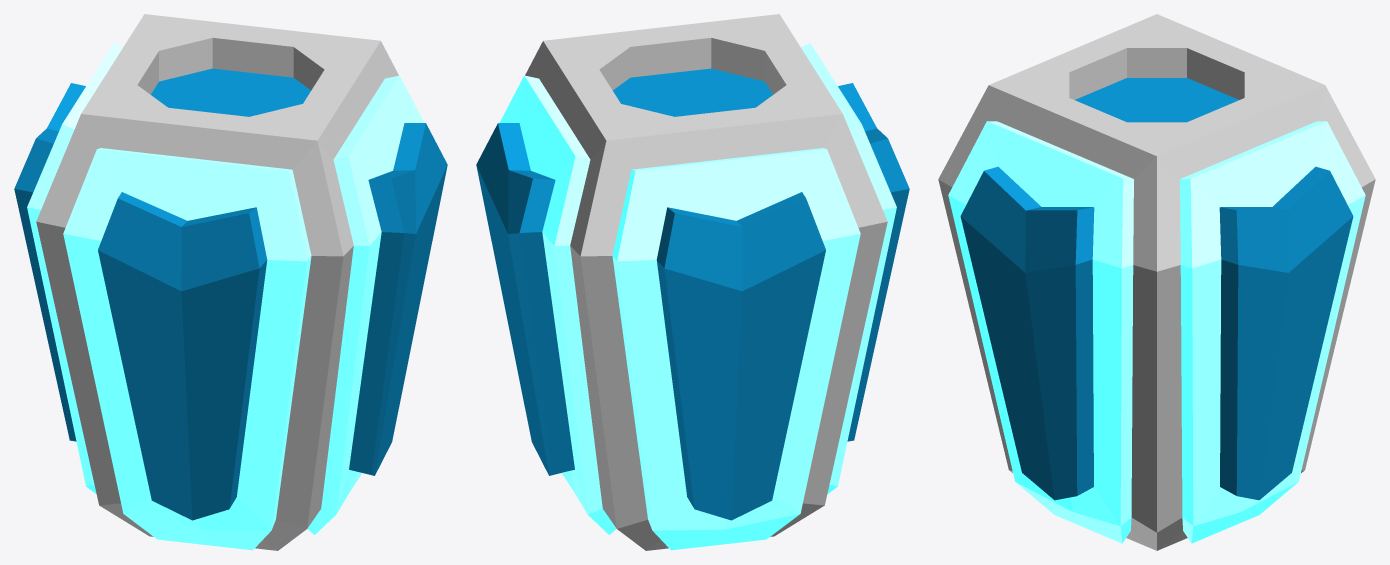
File: ShieldUpgrade.fbx
3 renders of one model, left to right at view 1: azimuth 30°, elevation 25°; view 2: azimuth 150°, elevation 25°; view 3: azimuth 270°, elevation 25°, orthographic. The views are drawn at different scales.
Parts seen in each view (by area): view 1: Cube; view 2: Cube; view 3: Cube.
Part boxes in pixels (x1,y1,x2,y2): Cube: (14, 14, 447, 550); Cube: (476, 14, 909, 550); Cube: (938, 14, 1375, 550).
Size of the model in its own units: 283 by 305 by 283.
